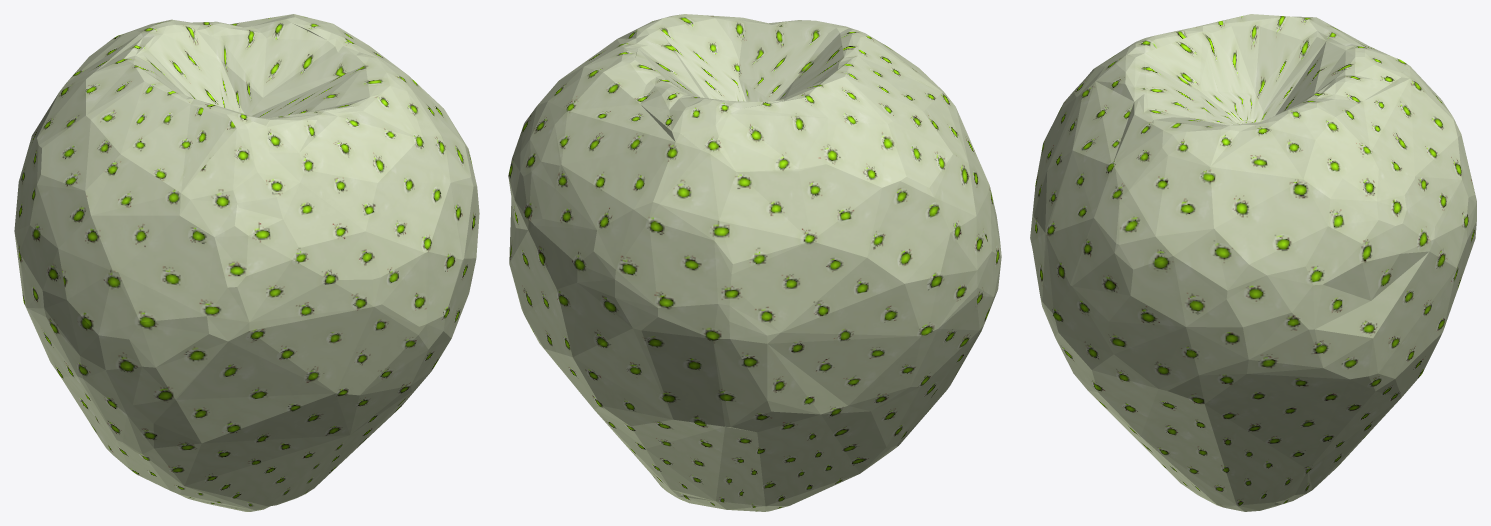
3 renders of one model, left to right at view 1: azimuth 30°, elevation 25°; view 2: azimuth 150°, elevation 25°; view 3: azimuth 270°, elevation 25°, orthographic. The views are drawn at different scales.
Visible parts, largest first — view 1: _000_Meshed; view 2: _000_Meshed; view 3: _000_Meshed.
Boxes of the visible parts, x1,y1,x2,y2 form: _000_Meshed: (14, 14, 479, 511); _000_Meshed: (508, 14, 1001, 511); _000_Meshed: (1030, 14, 1476, 511).
Size of the model in its own units: 0.1127 by 0.1067 by 0.1146.
Materials: 1 (1 with a texture image).
